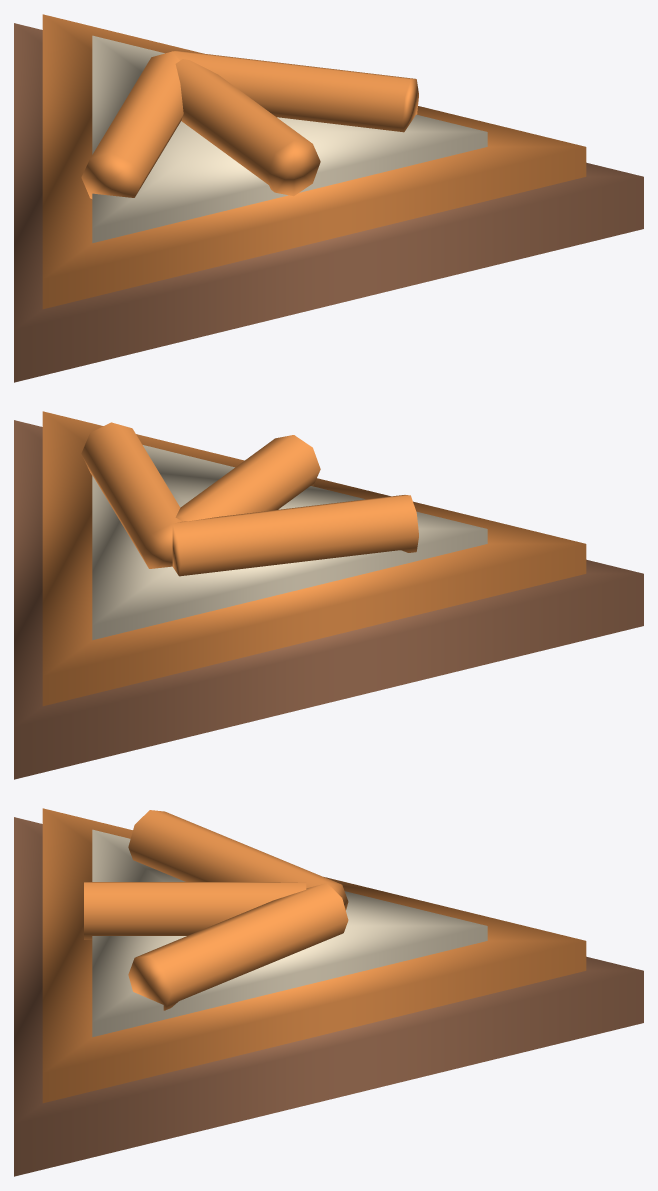
File: pad_upgrade.glb
The picture shows the model from 3 angles, top to bottom: view 1: azimuth 30°, elevation 25°; view 2: azimuth 150°, elevation 25°; view 3: azimuth 270°, elevation 25°; orthographic projection.
Visible parts, largest first — view 1: pad_upgrade; view 2: pad_upgrade; view 3: pad_upgrade.
Boxes of the visible parts, bbox=[...] form: pad_upgrade: bbox=[14, 14, 643, 382]; pad_upgrade: bbox=[14, 411, 643, 779]; pad_upgrade: bbox=[14, 808, 643, 1176].
Size of the model in its own units: 1.77 by 0.375 by 1.53.
